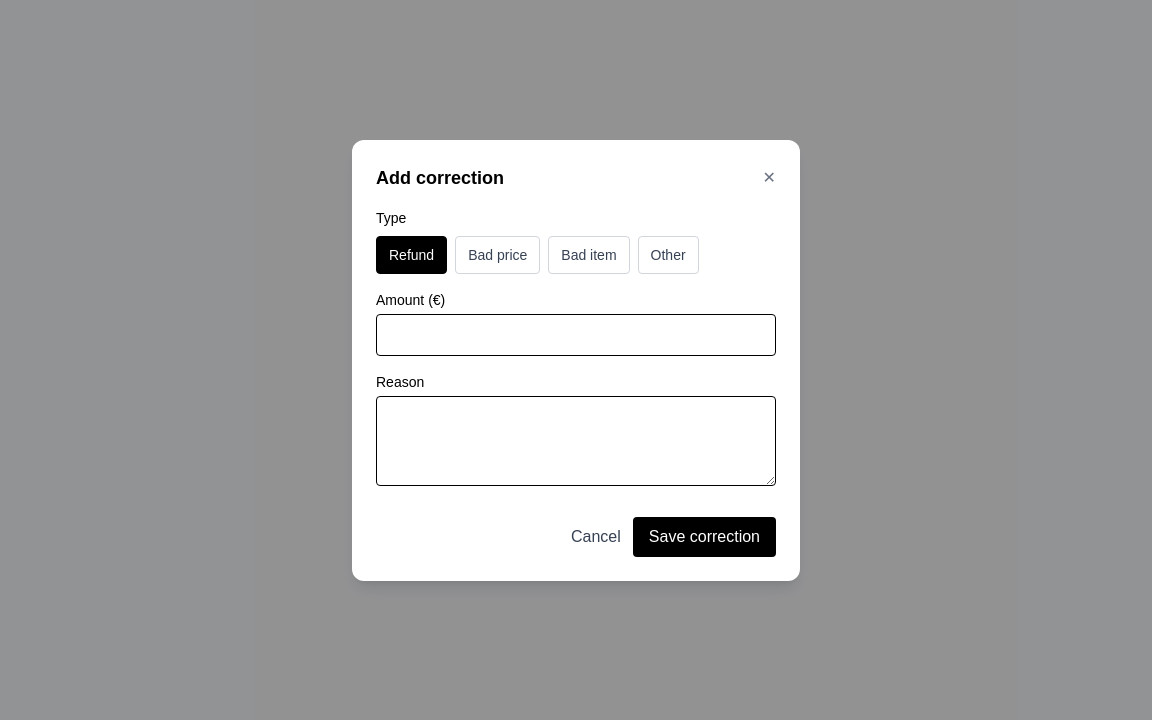
Test: CorrectionModal › validates the amount before submitting
Type "0" into the number field at x=576, y=334, box [376,314,776,356]
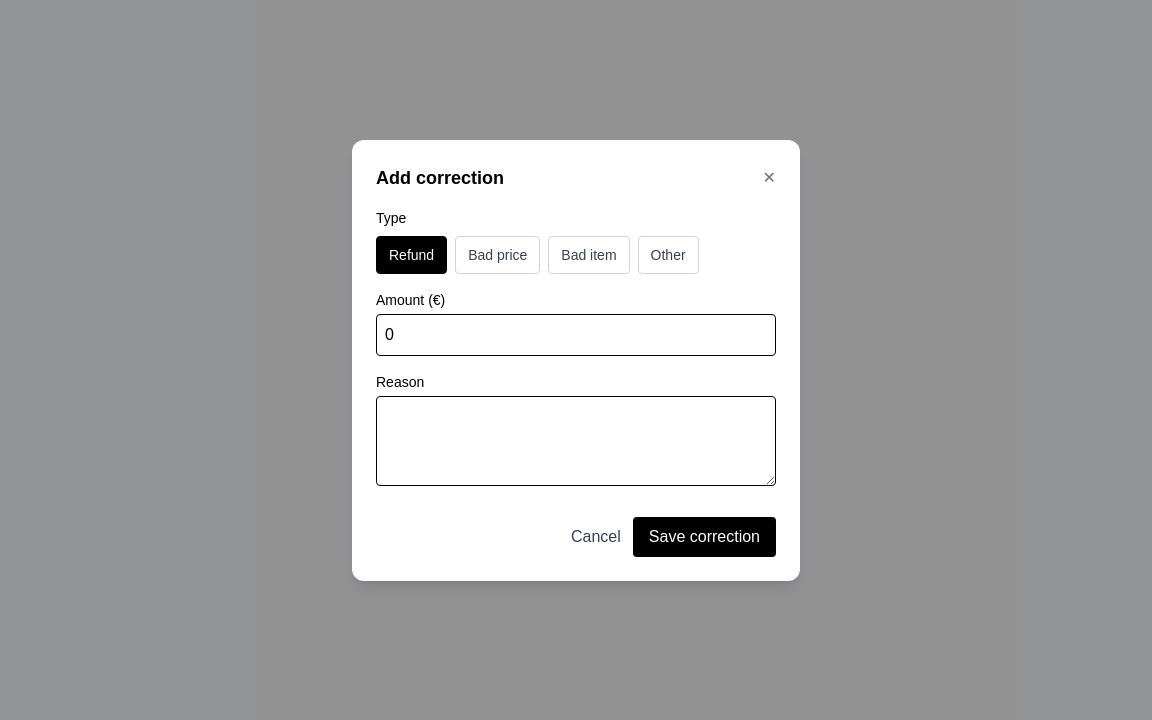
Type "Bad price" into the text box at x=576, y=440, box [376,396,776,486]
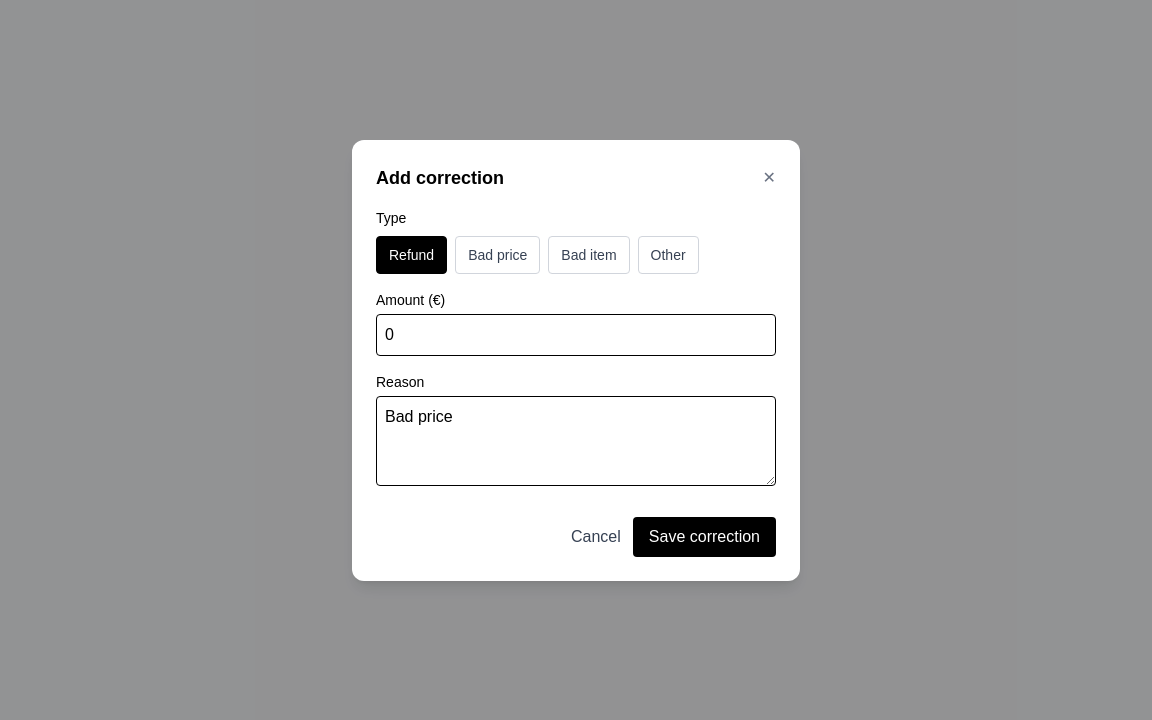
Click the button "Save correction" at x=704, y=536, box [633,516,776,556]
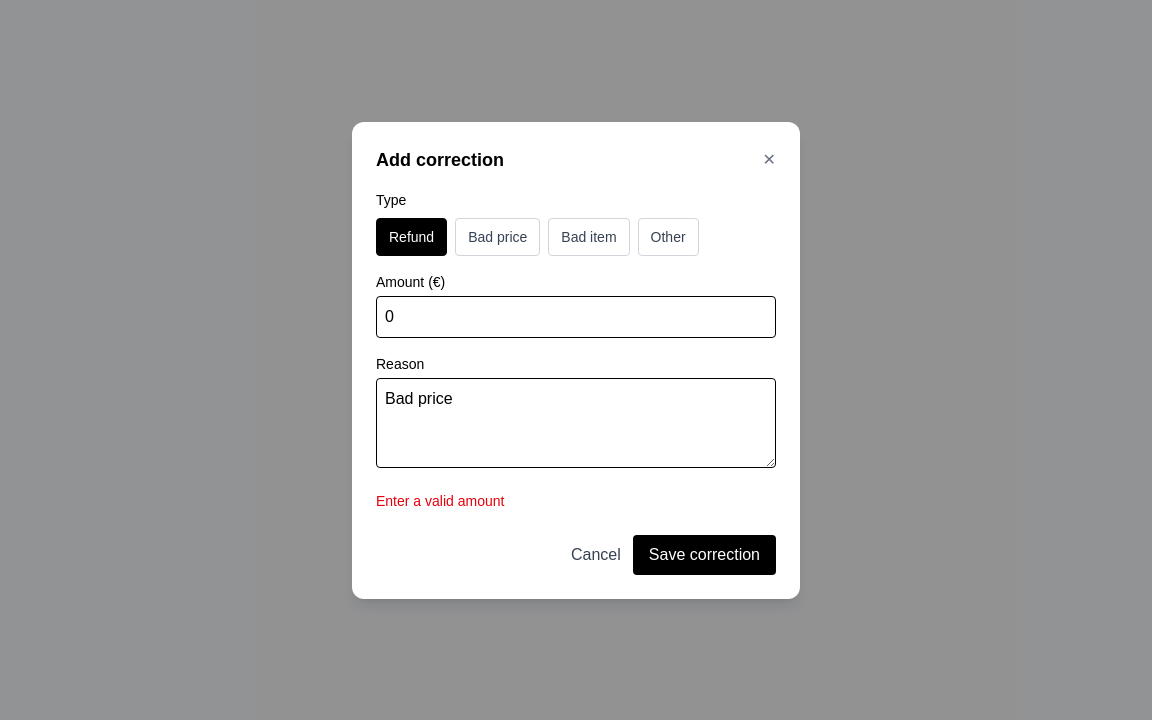
Expected: the text "Enter a valid amount" is shown, [376,492,504,508]
